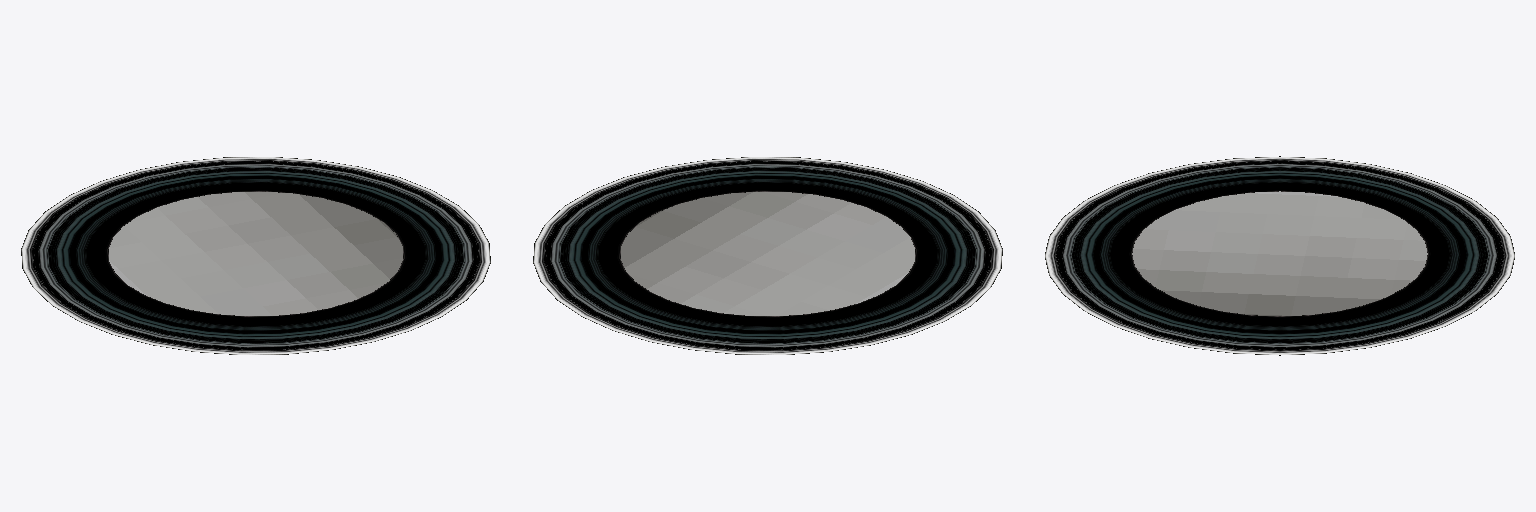
3 views of the same model, side by side, from view 1: azimuth 30°, elevation 25°; view 2: azimuth 150°, elevation 25°; view 3: azimuth 270°, elevation 25° (orthographic).
Bounding box in the file's own units: 1.93 × 0.0185 × 1.93.
Materials: 2 (1 with a texture image).